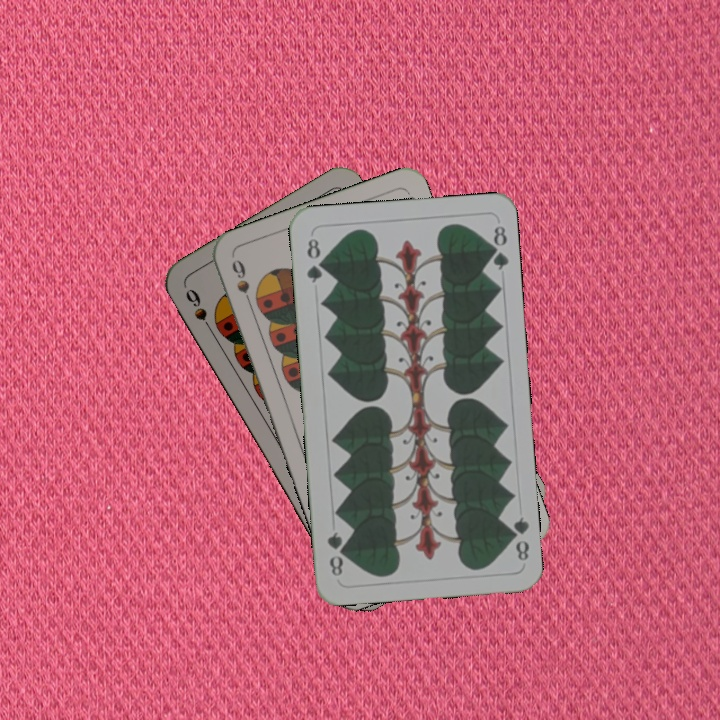G8: (504, 513, 532, 564), (302, 234, 326, 285)
S9: (227, 255, 262, 312), (181, 284, 217, 338)
